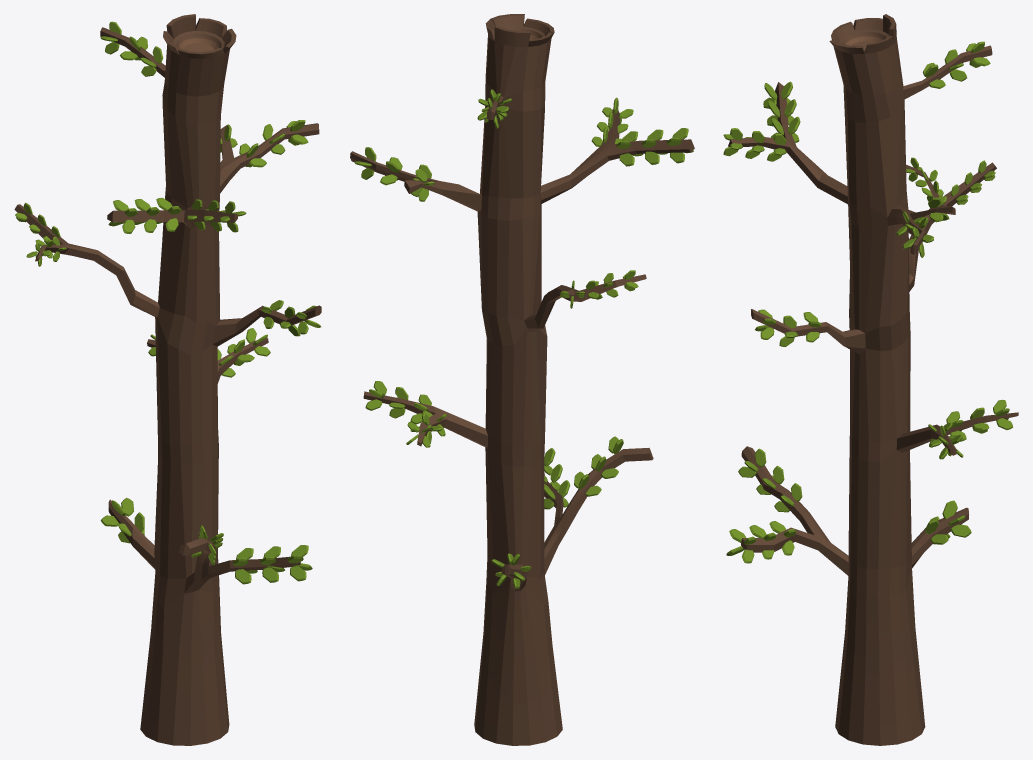
Rendered from Tree.fbx.
The picture shows the model from 3 angles, left to right: view 1: azimuth 30°, elevation 25°; view 2: azimuth 150°, elevation 25°; view 3: azimuth 270°, elevation 25°; orthographic projection.
Visible parts, largest first — view 1: Tree; view 2: Tree; view 3: Tree.
Part boxes in pixels (box(x1,y1,x2,y2)): Tree: box(14, 14, 321, 745); Tree: box(350, 14, 694, 745); Tree: box(723, 14, 1018, 745).
Size of the model in its own units: 663 by 1536 by 582.
